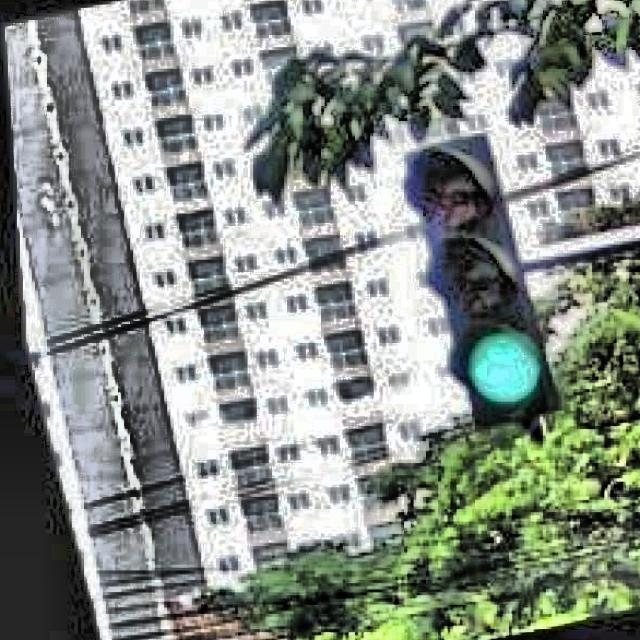green: (399, 134, 566, 426)
